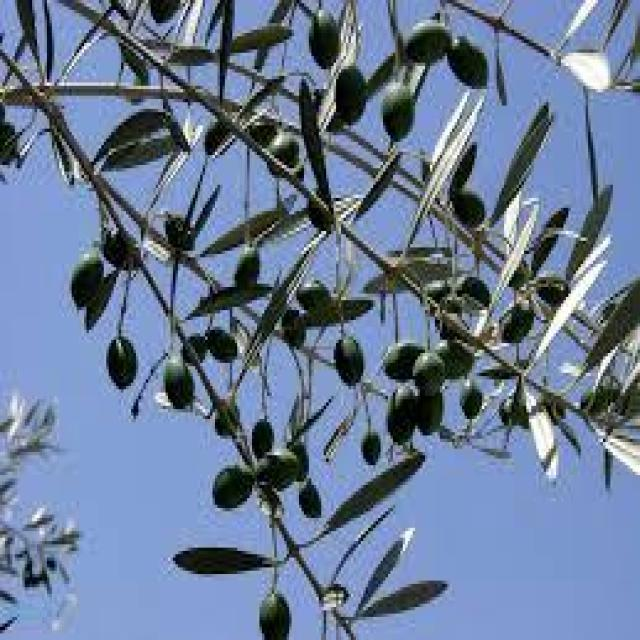Healthy: (447, 37, 488, 86), (404, 21, 453, 61), (382, 84, 414, 141), (309, 10, 339, 66), (336, 66, 366, 122), (387, 387, 417, 443), (72, 250, 101, 306), (214, 467, 254, 507), (163, 353, 193, 406), (106, 333, 136, 386), (259, 590, 289, 640), (334, 336, 363, 383)
